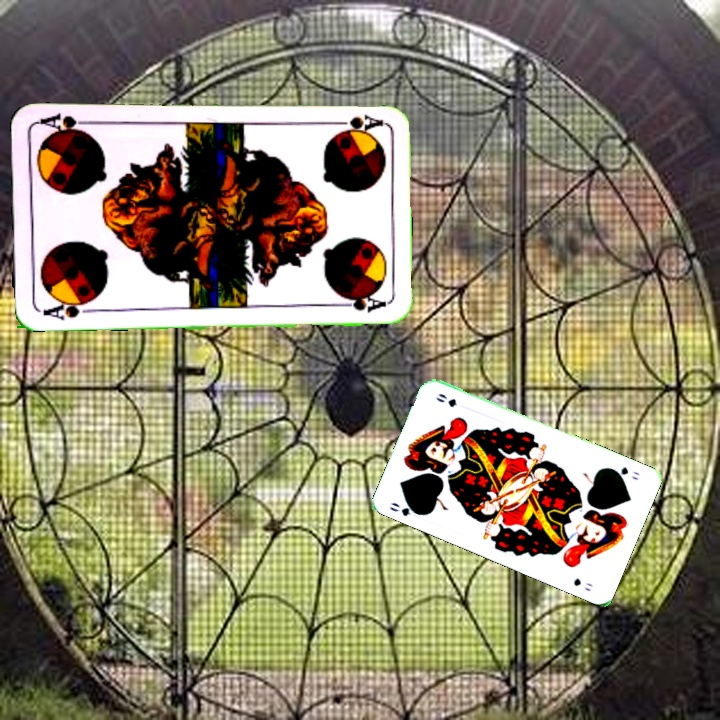GO: (385, 498, 425, 519), (606, 463, 642, 483)
SA: (39, 295, 97, 322), (325, 111, 384, 133)
